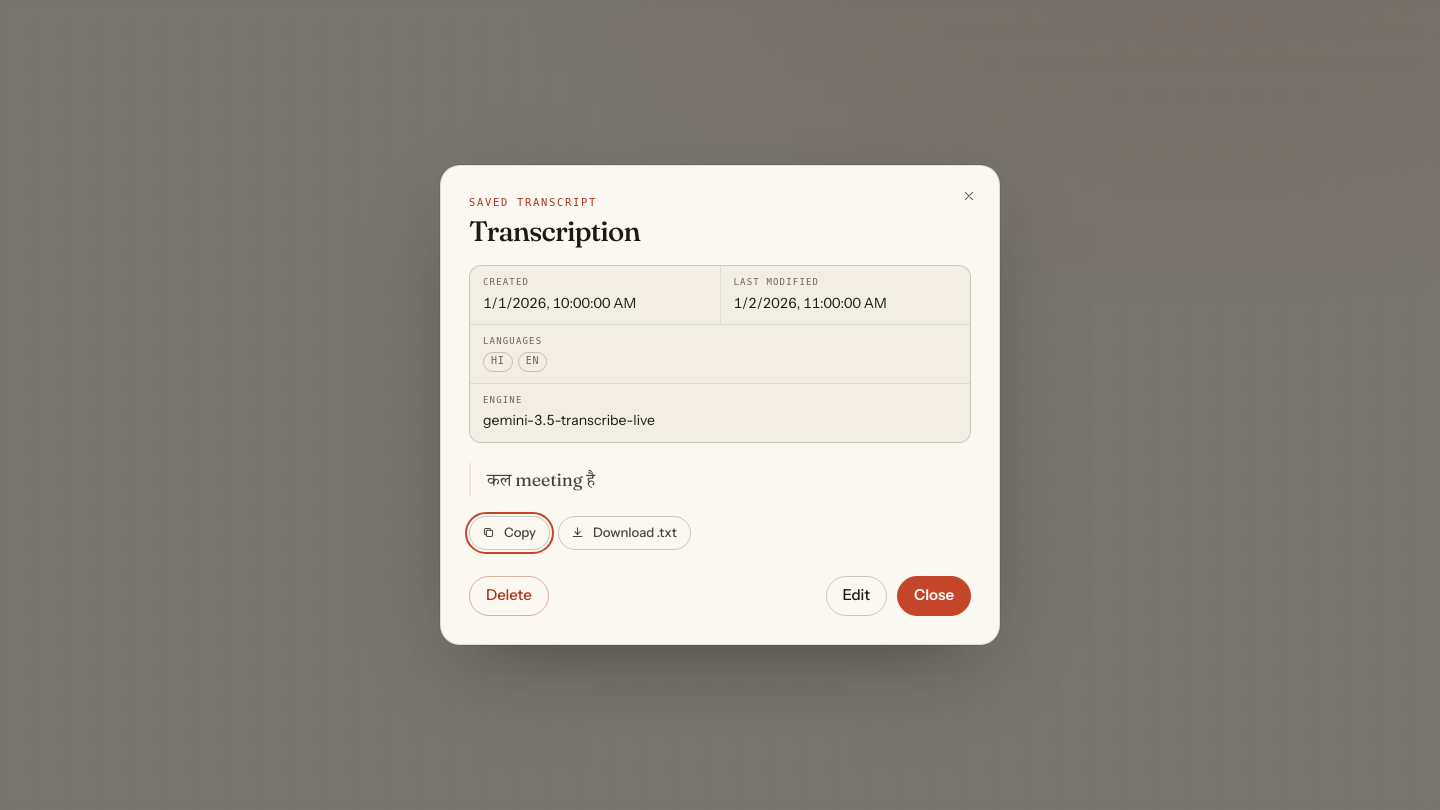
it: EntryDialog › shows server errors from save
Click the button "Edit" at point(856, 596), box [826,576,887,616]
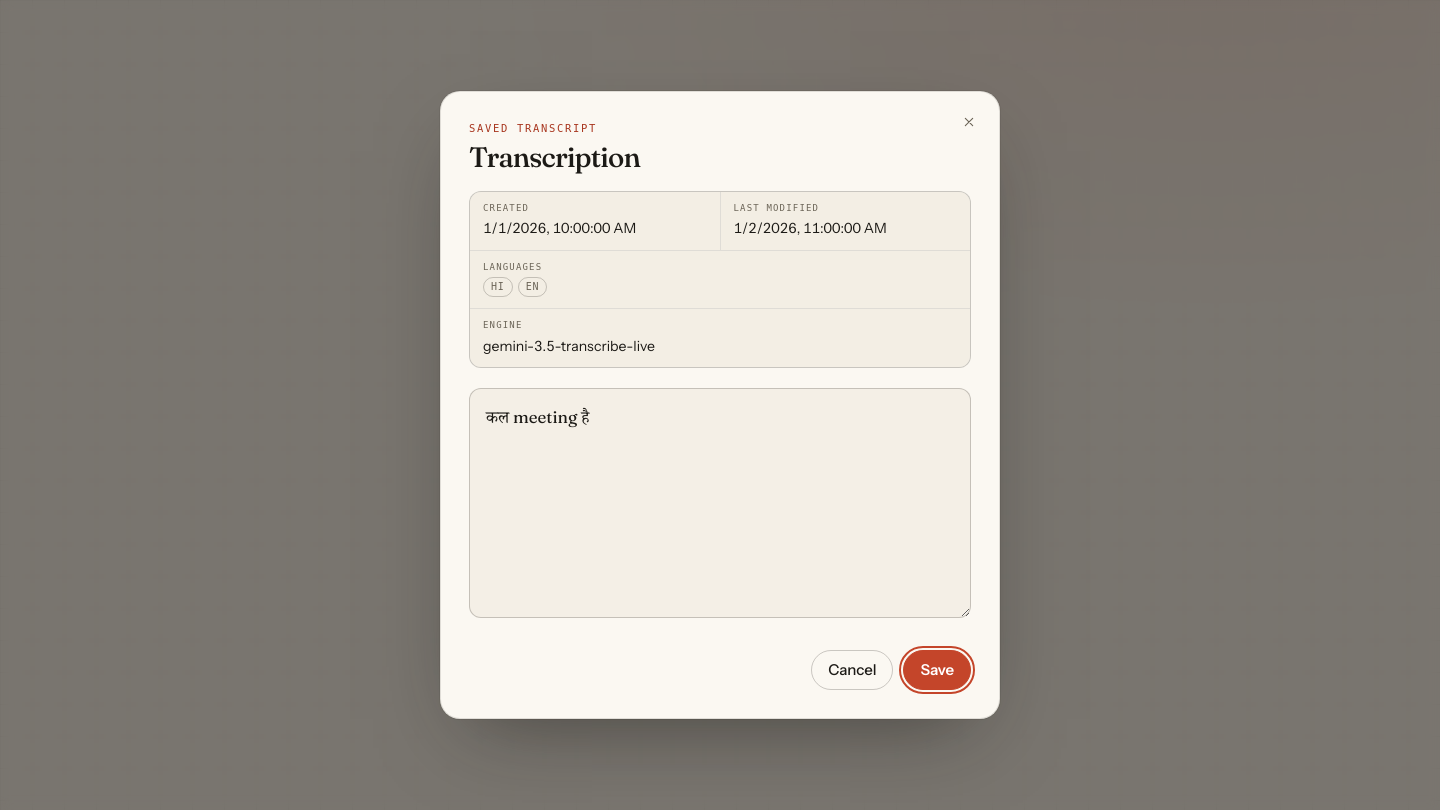
Type "!" into the text box at point(720, 503), box [469,388,971,618]
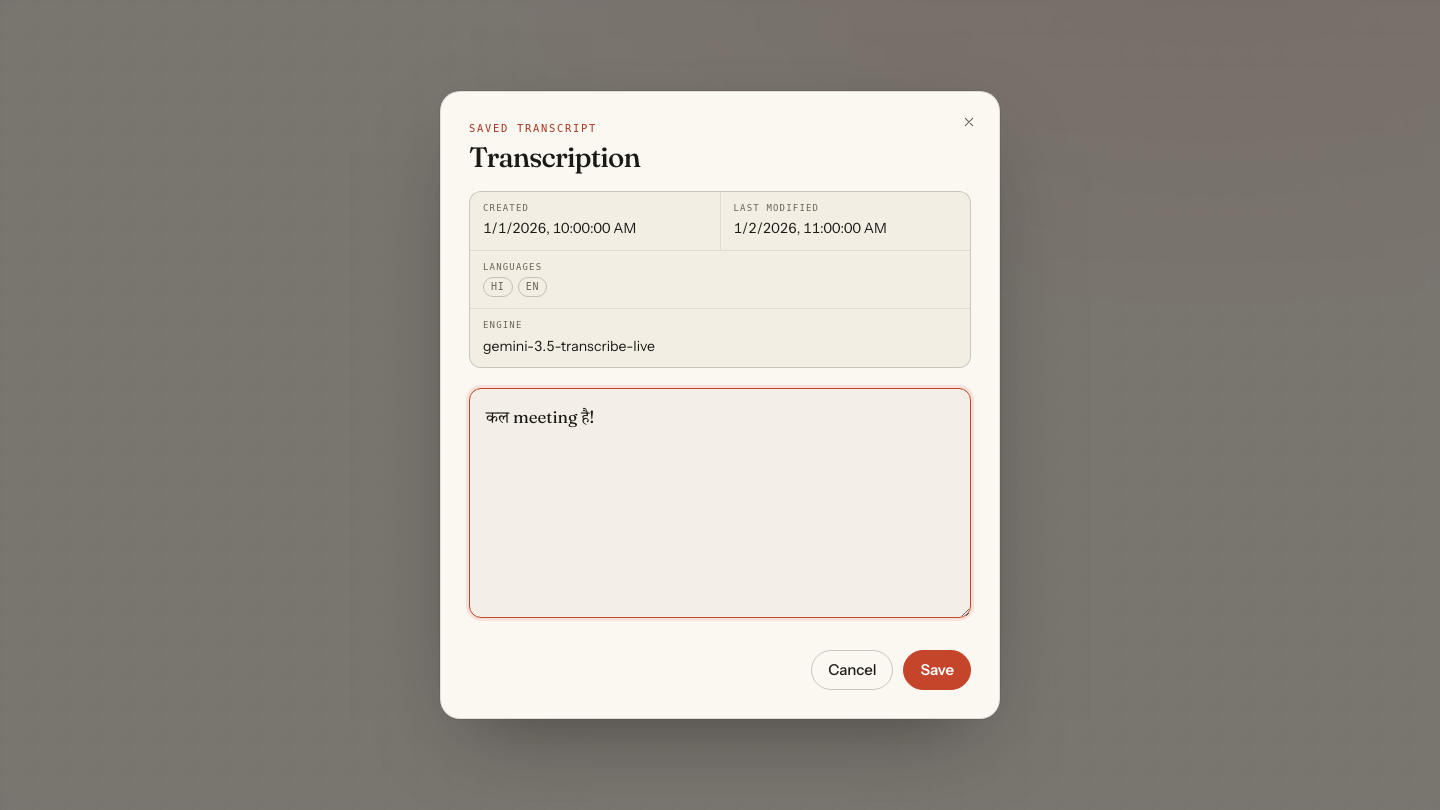
Click the button "Save" at point(937, 670), box [903,650,971,690]
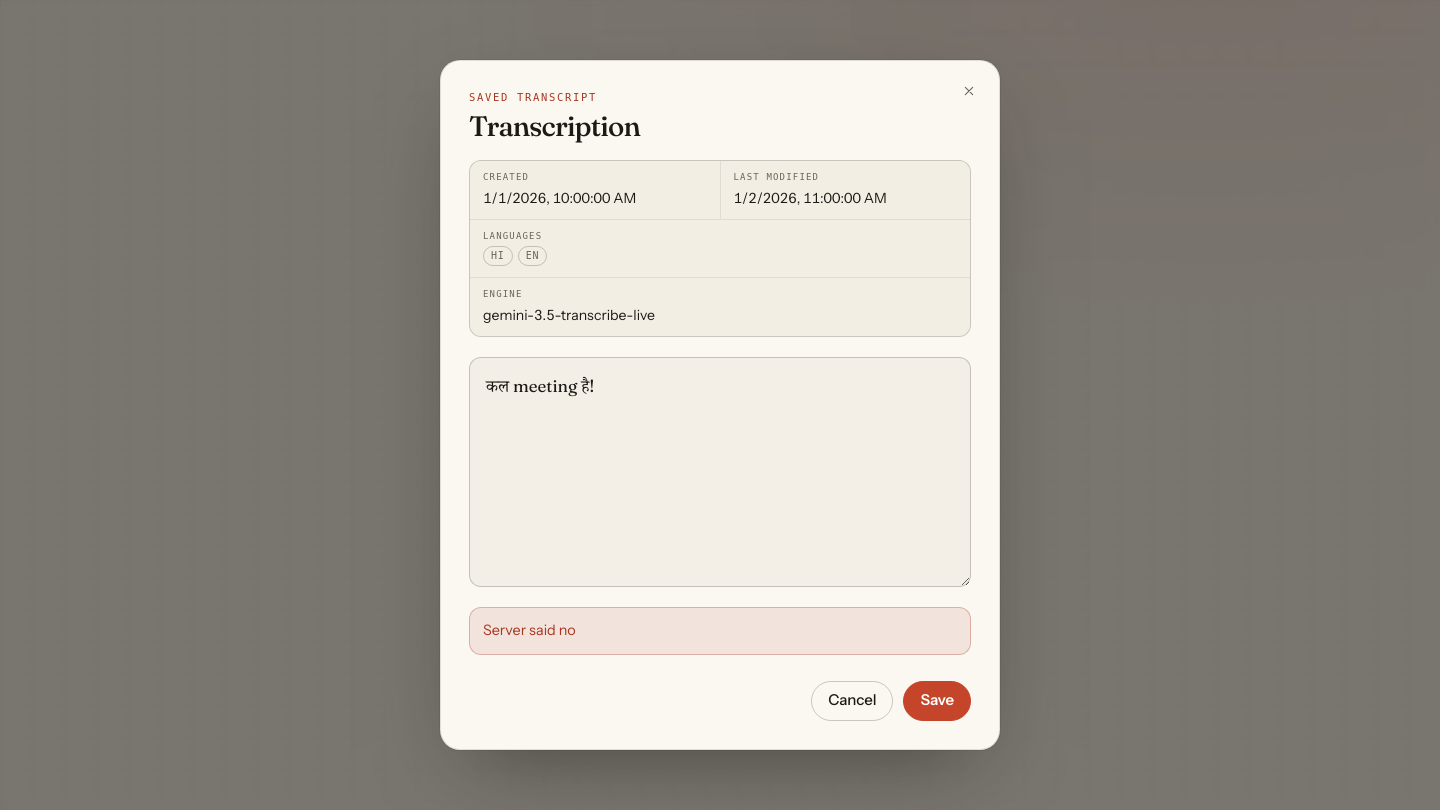
Expected: the message reads "Server said no", [483,621,576,639]
